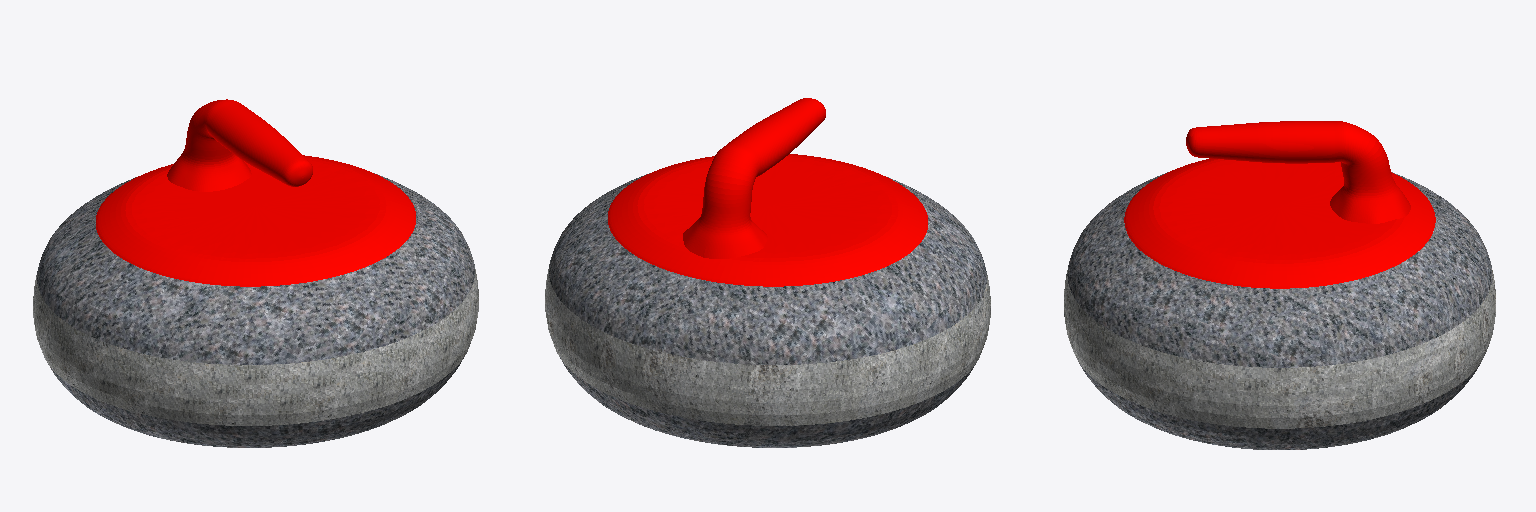
3 views of the same model, side by side, from view 1: azimuth 30°, elevation 25°; view 2: azimuth 150°, elevation 25°; view 3: azimuth 270°, elevation 25° (orthographic).
Visible parts, largest first — view 1: Cylinder; view 2: Cylinder; view 3: Cylinder.
Part boxes in pixels (x1,y1,x2,y2): Cylinder: (33, 99, 478, 447); Cylinder: (545, 98, 990, 447); Cylinder: (1064, 121, 1495, 449).
Bounding box in the file's own units: 1.98 × 1.28 × 1.9.
Materials: 4 (1 with a texture image).